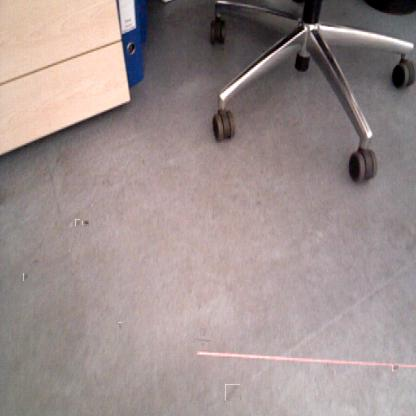mark: (224, 384, 241, 401), (196, 332, 212, 346), (32, 258, 39, 266), (392, 365, 399, 372), (23, 273, 28, 281), (118, 322, 122, 331), (75, 219, 80, 226), (83, 221, 89, 226)
